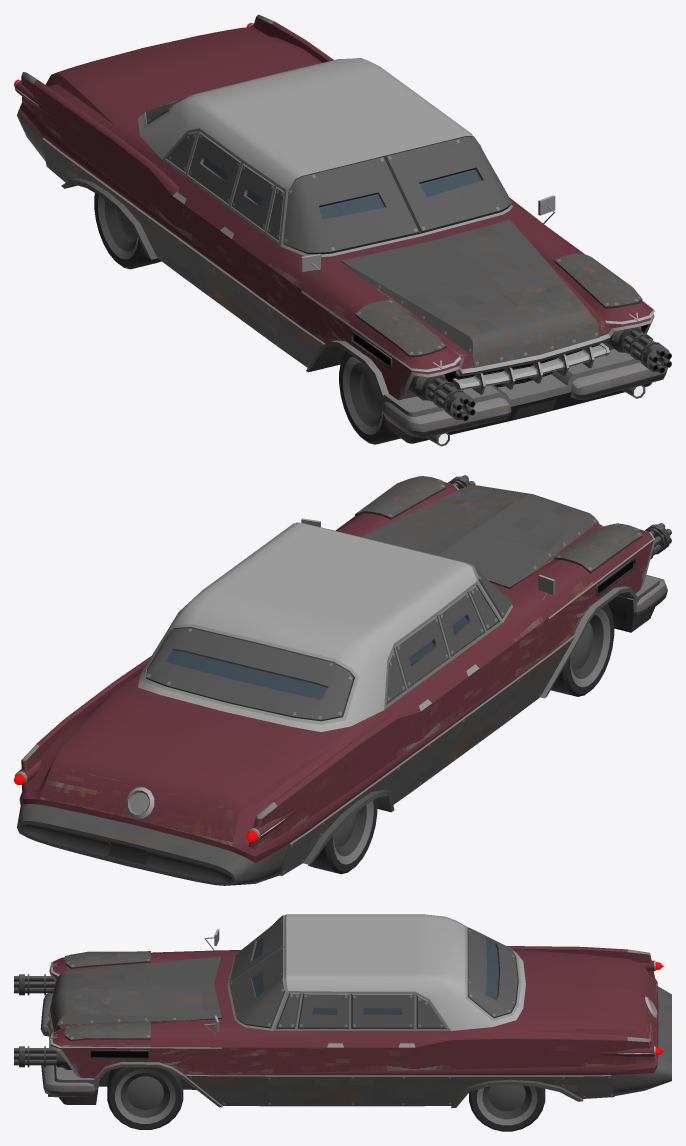
File: royal_59_free__warhavoc_survival_car_pack.glb
3 renders of one model, top to bottom at view 1: azimuth 30°, elevation 25°; view 2: azimuth 150°, elevation 25°; view 3: azimuth 270°, elevation 25°, orthographic. The views are drawn at different scales.
Visible parts, largest first — view 1: Royal 59 Combat, FrontRightWheel, RearRightWheel, Minigun Right, Minigun Left; view 2: Royal 59 Combat, FrontRightWheel, RearRightWheel; view 3: Royal 59 Combat, FrontLeftWheel, RearLeftWheel, Minigun Left, Minigun Right.
Part boxes in pixels (x1,y1,x2,y2): Royal 59 Combat: (14,14,667,446); FrontRightWheel: (339,351,400,444); RearRightWheel: (94,193,161,269); Minigun Right: (427,378,475,421); Minigun Left: (624,330,671,373); Royal 59 Combat: (14,476,667,885); FrontRightWheel: (551,603,614,696); RearRightWheel: (308,798,377,874); Royal 59 Combat: (40,914,671,1108); FrontLeftWheel: (107,1067,183,1129); RearLeftWheel: (469,1084,545,1131); Minigun Left: (14,1046,56,1067); Minigun Right: (14,974,55,995).
Size of the model in its own units: 2.07 by 1.44 by 5.99.
2 materials, 2 textured.
